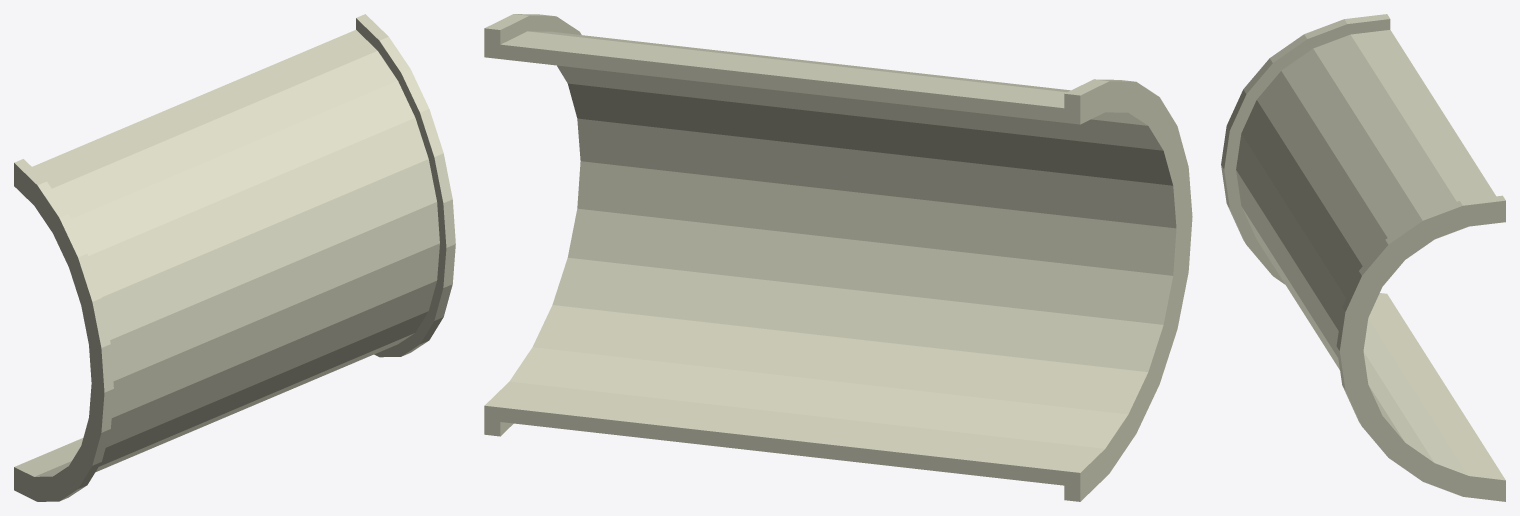
The model's file is section_029.obj.
The picture shows the model from 3 angles, left to right: view 1: azimuth 30°, elevation 25°; view 2: azimuth 150°, elevation 25°; view 3: azimuth 270°, elevation 25°; orthographic projection. The views are drawn at different scales.
Bounding box in the file's own units: 37.19 × 28 × 24.
